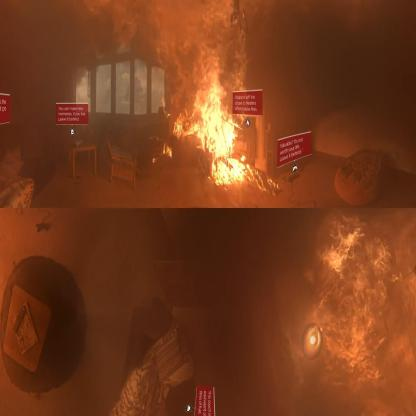fire: (173, 63, 274, 192)
